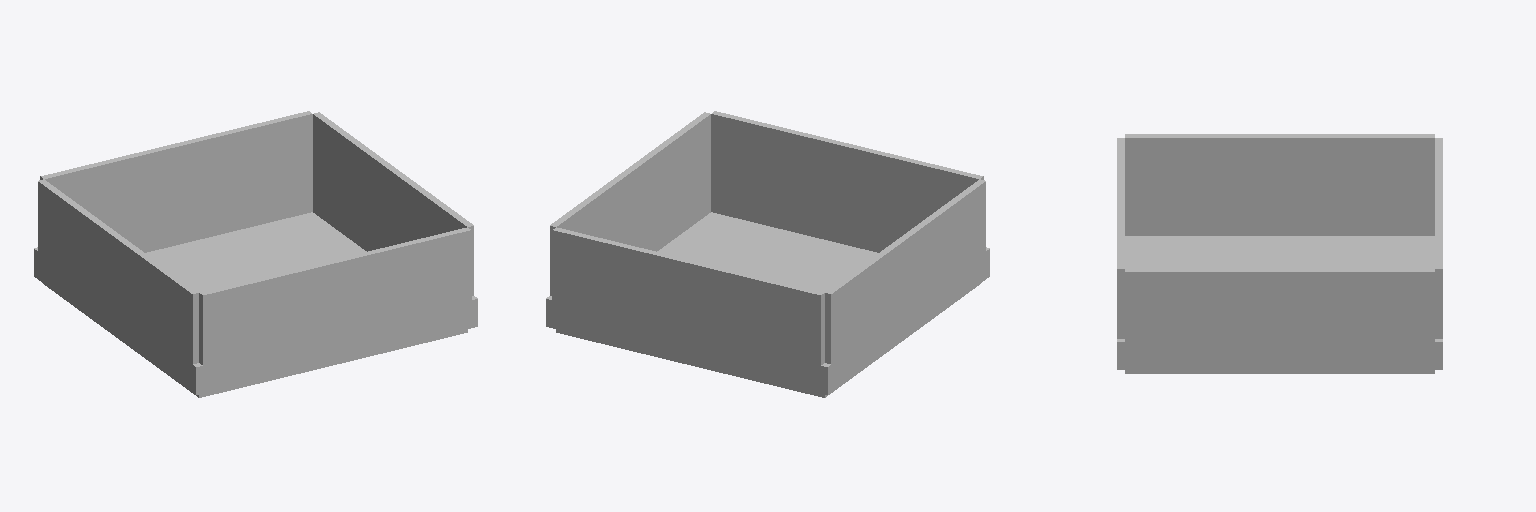
The model's file is Ground2.obj.
3 views of the same model, side by side, from view 1: azimuth 30°, elevation 25°; view 2: azimuth 150°, elevation 25°; view 3: azimuth 270°, elevation 25° (orthographic).
Visible parts, largest first — view 1: Cube; view 2: Cube; view 3: Cube.
Part boxes in pixels (bbox=[...]): Cube: bbox=[34, 111, 477, 397]; Cube: bbox=[546, 111, 989, 397]; Cube: bbox=[1117, 134, 1442, 373].
Bounding box in the file's own units: 42 × 15.02 × 42.